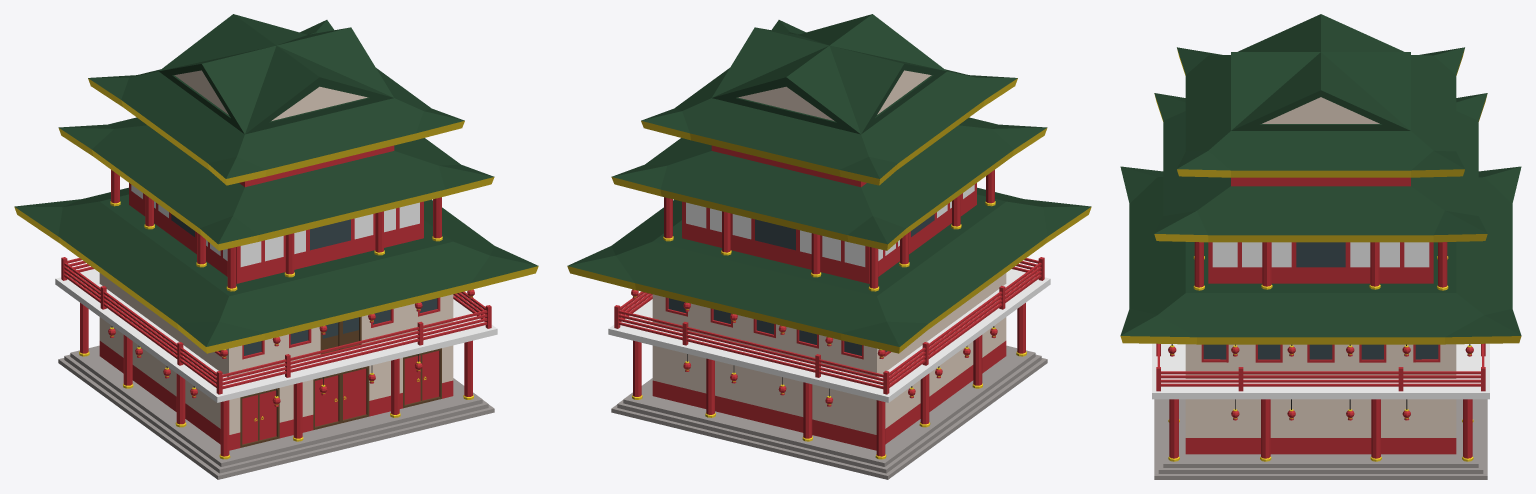
The model's file is buildings_building-temple-china.fbx.
3 renders of one model, left to right at view 1: azimuth 30°, elevation 25°; view 2: azimuth 150°, elevation 25°; view 3: azimuth 270°, elevation 25°, orthographic. The views are drawn at different scales.
Visible parts, largest first — view 1: buildings_building_temple_china; view 2: buildings_building_temple_china; view 3: buildings_building_temple_china.
Boxes of the visible parts, x1,y1,x2,y2 form: buildings_building_temple_china: [14, 14, 538, 479]; buildings_building_temple_china: [567, 14, 1091, 479]; buildings_building_temple_china: [1120, 14, 1521, 479].
Bounding box in the file's own units: 200 × 197 × 200.
